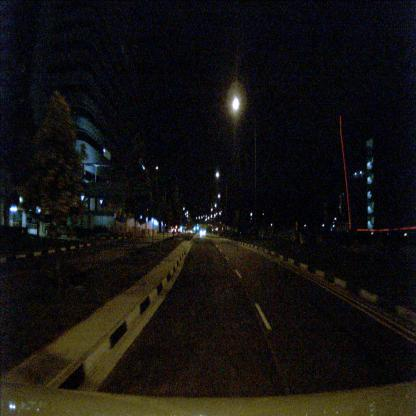vehicle-car: (200, 228, 206, 236)
